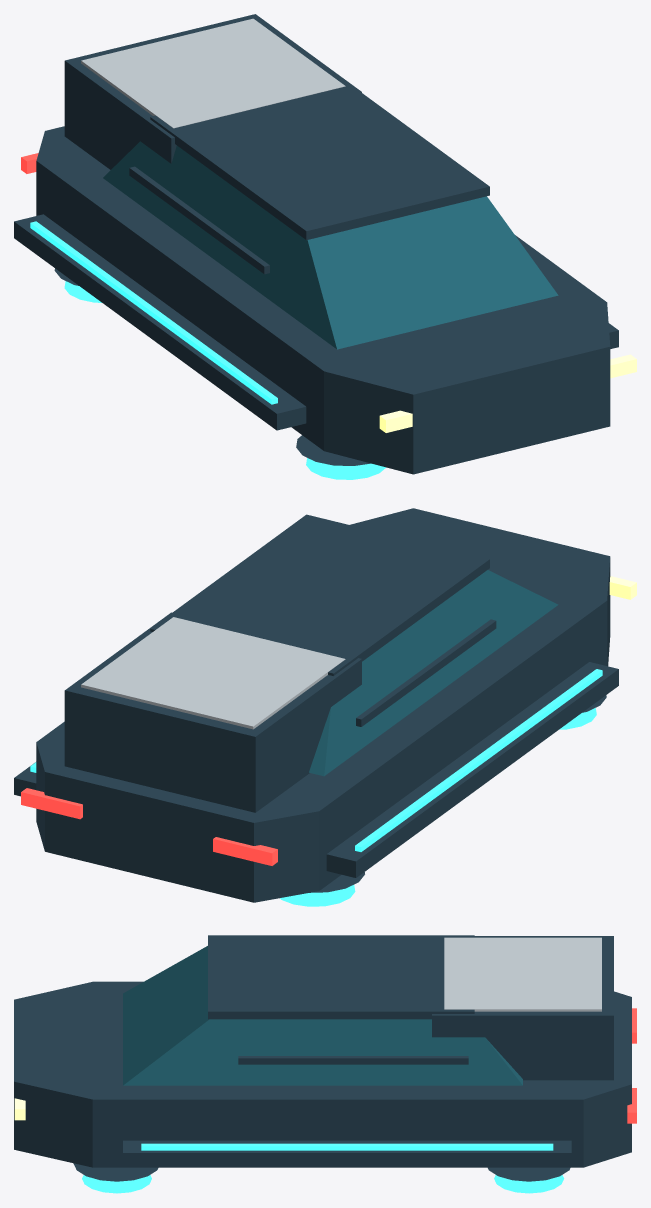
The model's file is air_delivery.glb.
3 renders of one model, top to bottom at view 1: azimuth 30°, elevation 25°; view 2: azimuth 150°, elevation 25°; view 3: azimuth 270°, elevation 25°, orthographic. The views are drawn at different scales.
Parts seen in each view (by area): view 1: air_delivery; view 2: air_delivery; view 3: air_delivery.
Boxes of the visible parts, x1,y1,x2,y2 form: air_delivery: [14, 14, 636, 479]; air_delivery: [14, 508, 636, 906]; air_delivery: [14, 935, 636, 1193].
Size of the model in its own units: 2.78 by 1.47 by 5.14.
